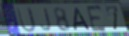7: (104, 6, 120, 32)
8: (54, 7, 71, 33)
A: (74, 7, 92, 32)
E: (85, 5, 108, 33)
J: (39, 8, 53, 32)
U: (15, 7, 37, 33)
